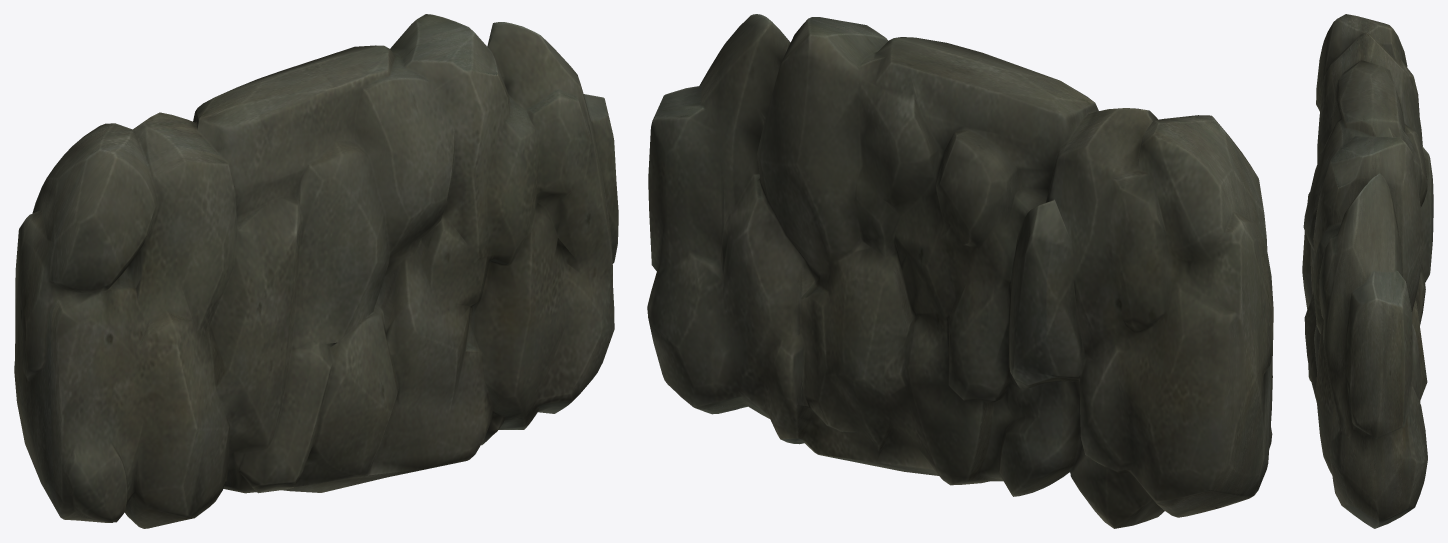
Rendered from cliffWall_lowp1.fbx.
3 renders of one model, left to right at view 1: azimuth 30°, elevation 25°; view 2: azimuth 150°, elevation 25°; view 3: azimuth 270°, elevation 25°, orthographic. The views are drawn at different scales.
Parts seen in each view (by area): view 1: highCliff_retopo2; view 2: highCliff_retopo2; view 3: highCliff_retopo2.
Boxes of the visible parts, x1=… form: highCliff_retopo2: x1=14, y1=14, x2=618, y2=528; highCliff_retopo2: x1=647, y1=14, x2=1273, y2=528; highCliff_retopo2: x1=1302, y1=14, x2=1433, y2=528.
Bounding box in the file's own units: 895 × 619 × 207.
Materials: 1 (1 with a texture image).
